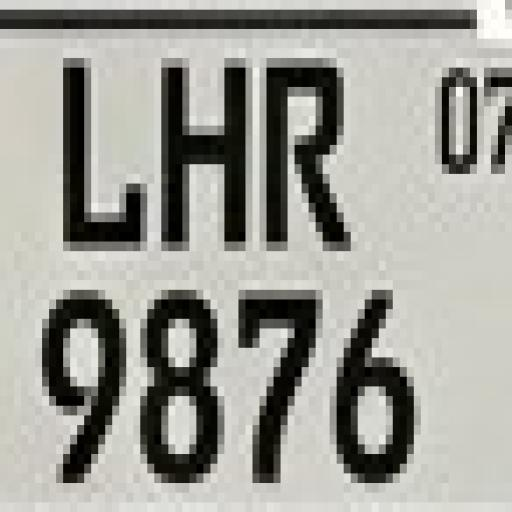6: (331, 286, 432, 492)
7: (236, 288, 320, 490)
8: (141, 294, 224, 502)
9: (28, 278, 129, 512)
H: (155, 50, 247, 244)
L: (60, 53, 150, 256)
R: (261, 53, 360, 243)
